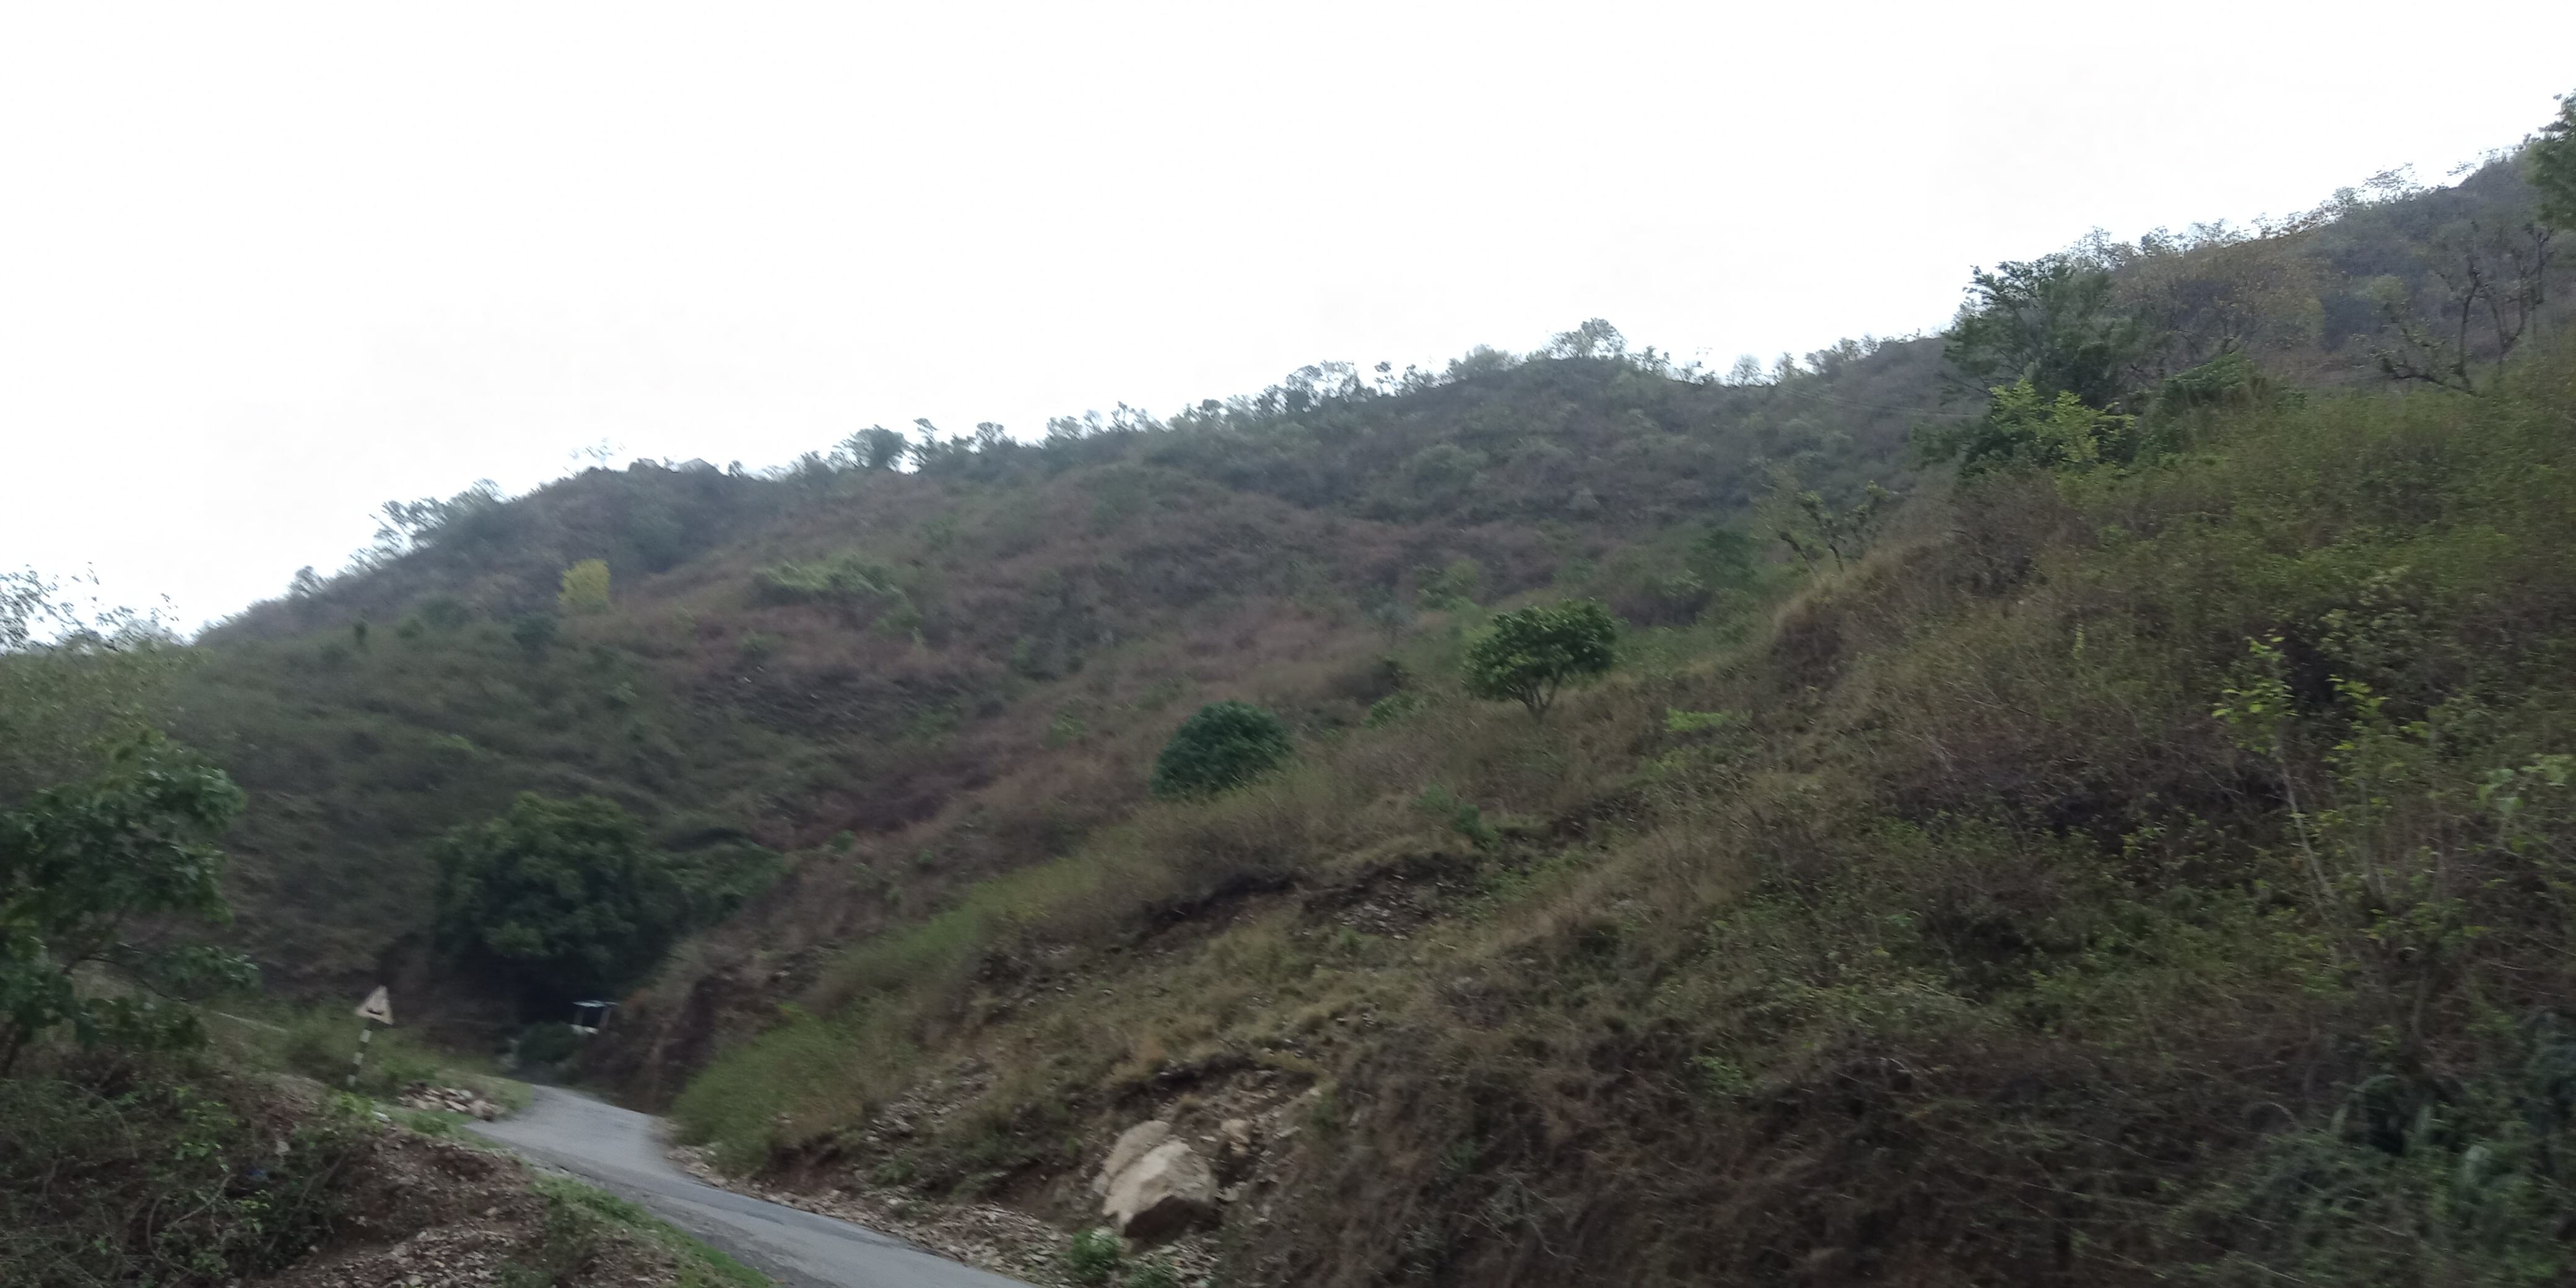traffic_sign: (348, 984, 396, 1030)
